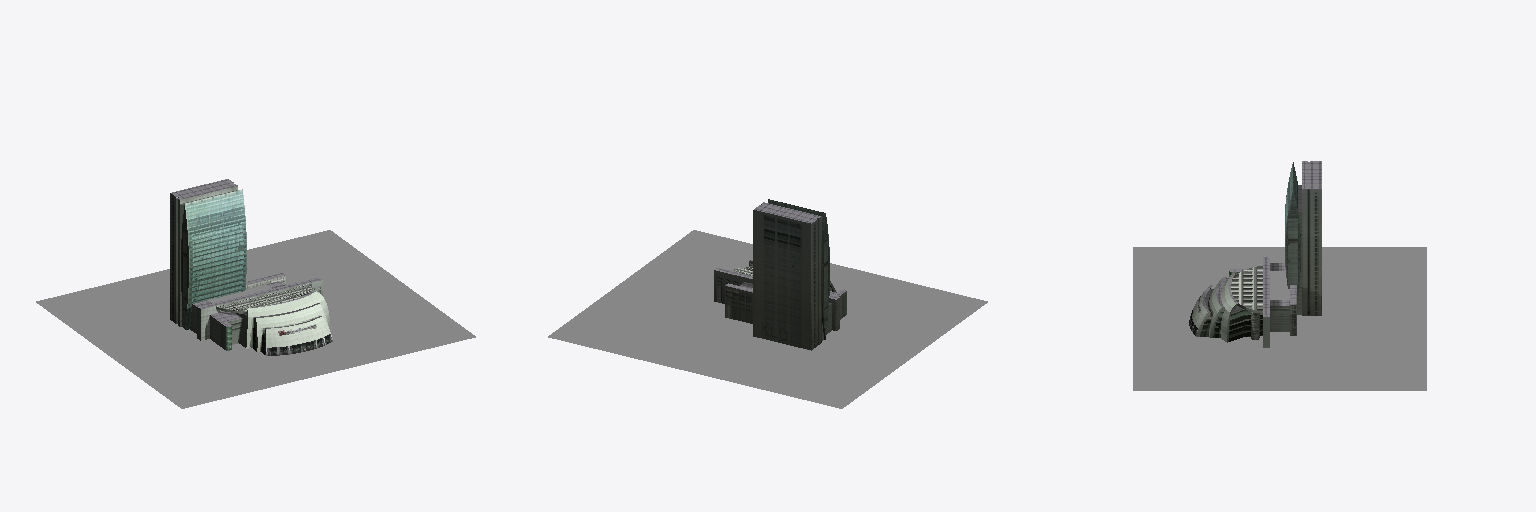
3 renders of one model, left to right at view 1: azimuth 30°, elevation 25°; view 2: azimuth 150°, elevation 25°; view 3: azimuth 270°, elevation 25°, orthographic.
Visible parts, largest first — view 1: Material__41, Material__192535, Material__192485; view 2: Material__41, Material__192535; view 3: Material__41, Material__192535, Material__192485.
Part boxes in pixels (bbox=[...]): Material__41: bbox=[36, 230, 475, 408]; Material__192535: bbox=[170, 179, 332, 355]; Material__192485: bbox=[216, 284, 311, 311]; Material__41: bbox=[548, 230, 987, 408]; Material__192535: bbox=[714, 199, 846, 350]; Material__41: bbox=[1133, 247, 1426, 390]; Material__192535: bbox=[1189, 161, 1321, 347]; Material__192485: bbox=[1231, 265, 1262, 311].
Bounding box in the file's own units: 265 × 109 × 228.
4 materials, 2 textured.